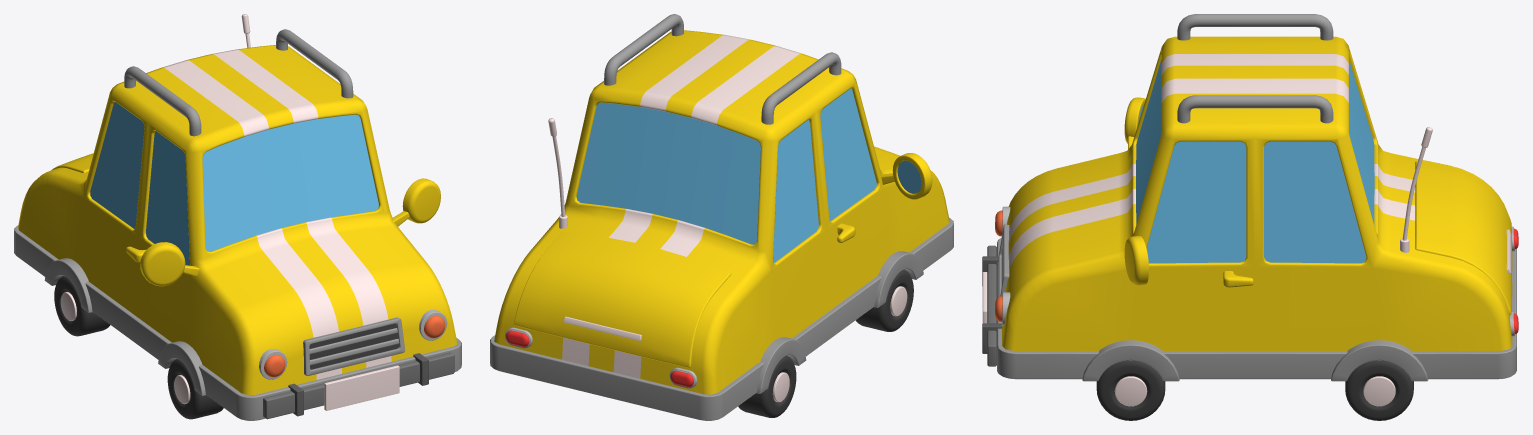
The model's file is Town_18_Car_1.glb.
3 renders of one model, left to right at view 1: azimuth 30°, elevation 25°; view 2: azimuth 150°, elevation 25°; view 3: azimuth 270°, elevation 25°, orthographic. The views are drawn at different scales.
Visible parts, largest first — view 1: Town_18_Car_1; view 2: Town_18_Car_1; view 3: Town_18_Car_1.
Part boxes in pixels (box(x1,y1,x2,y2)): Town_18_Car_1: box(14, 14, 461, 420); Town_18_Car_1: box(490, 14, 953, 420); Town_18_Car_1: box(982, 14, 1518, 420).
Size of the model in its own units: 3.09 by 2.77 by 4.39.
Materials: 1 (1 with a texture image).
